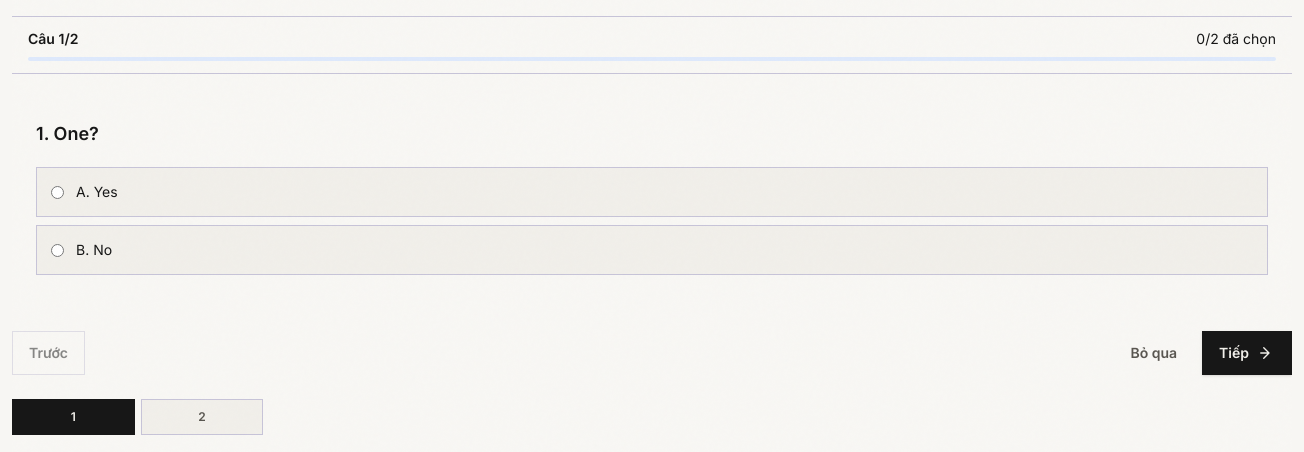
Test: TestRunner › moves one question at a time and only enables submit at the end
Expected: the text "Câu 1/2" is shown, top-left (28, 29), bottom-right (78, 49)
Expected: the text "0/2 đã chọn" is shown, top-left (1196, 29), bottom-right (1276, 49)
Click the radio button labelled "A. Yes". click: coordinates (58, 192)
box: top-left (51, 186), bottom-right (64, 199)
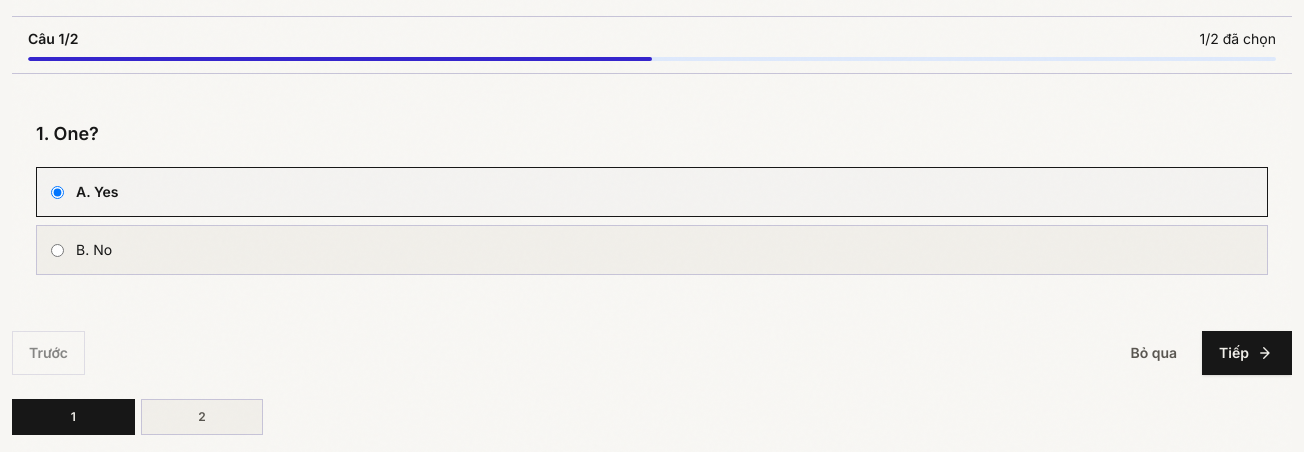
Expected: the text "1/2 đã chọn" is shown, top-left (1199, 29), bottom-right (1276, 49)
Click the button "Tiếp". click: coordinates (1247, 353)
box: top-left (1202, 331), bottom-right (1292, 375)
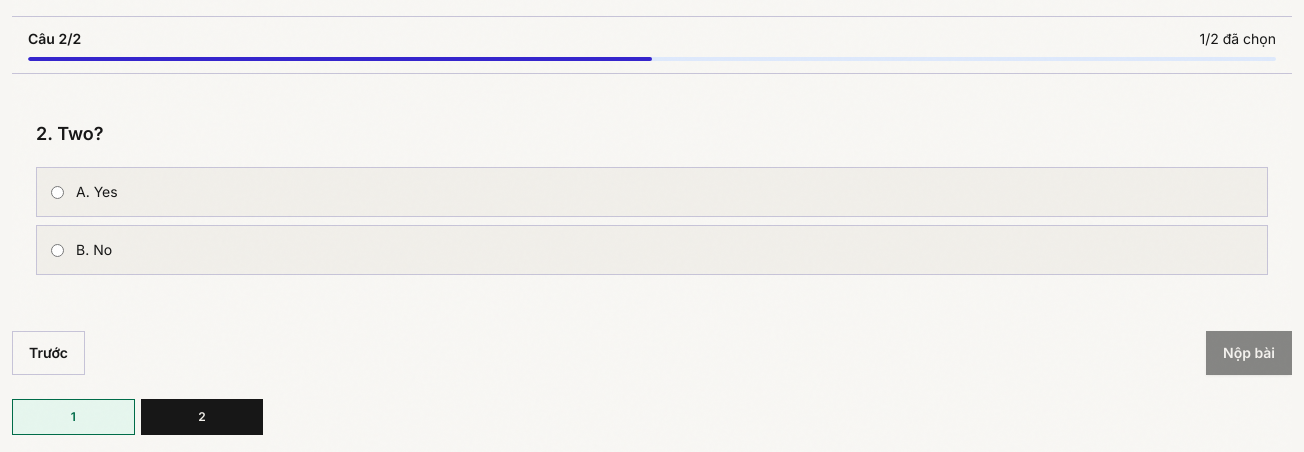
Expected: the text "1/2 đã chọn" is shown, top-left (1199, 29), bottom-right (1276, 49)
Expected: the text "Câu 2/2" is shown, top-left (28, 29), bottom-right (81, 49)
Click the radio button labelled "A. Yes". click: coordinates (58, 192)
box: top-left (51, 186), bottom-right (64, 199)
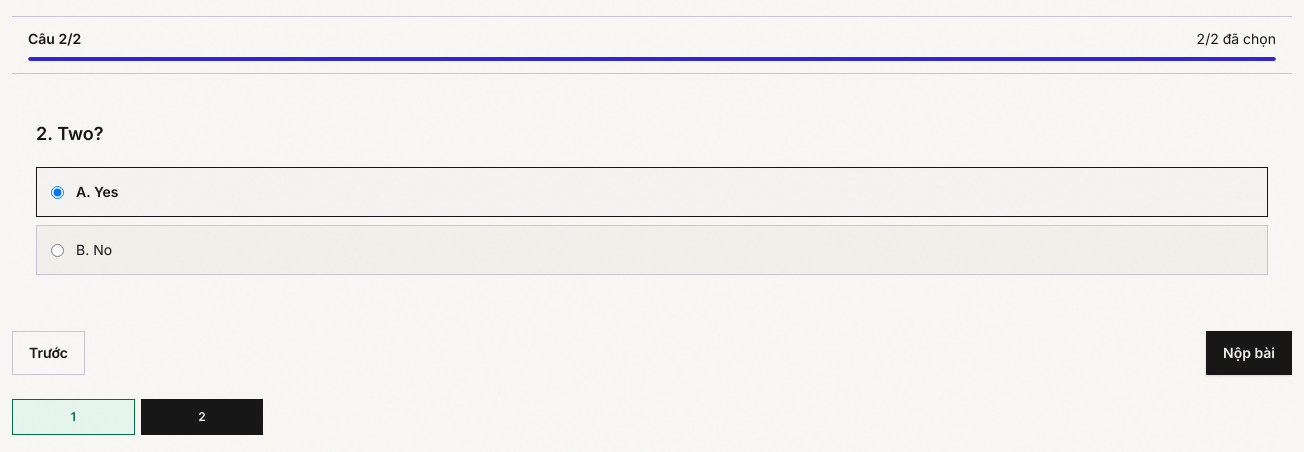
Expected: the button "Nộp bài" is enabled, top-left (1206, 331), bottom-right (1292, 375)
